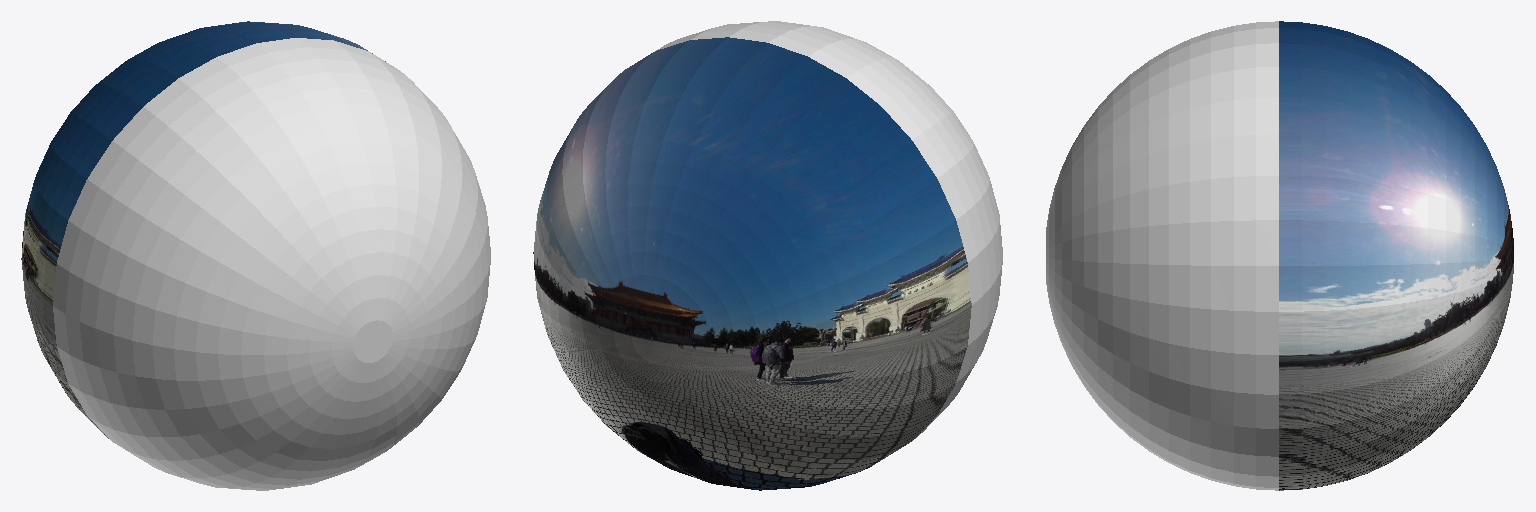
The picture shows the model from 3 angles: view 1: azimuth 30°, elevation 25°; view 2: azimuth 150°, elevation 25°; view 3: azimuth 270°, elevation 25°; orthographic projection.
Parts seen in each view (by area): view 1: Object__0; view 2: Object__0; view 3: Object__0.
Part boxes in pixels (x1,y1,x2,y2): Object__0: (21,21,490,490); Object__0: (533,21,1002,490); Object__0: (1046,21,1513,490).
Bounding box in the file's own units: 2 × 2 × 2.
2 materials, 1 textured.